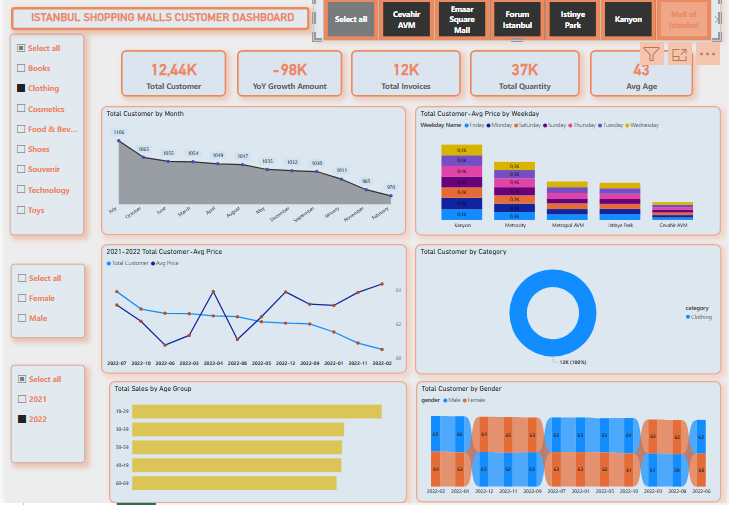

Layout of this report page (visuals, bound fields, positions):
{"tool":"powerbi","page":{"name":"Customer ","canvas":[1750,1230],"ordinal":1},"visuals":[{"type":"textbox","title":"ISTANBUL SHOPPING MALLS CUSTOMER DASHBOARD","box":[14,28.1,722.8,56.1],"z":0},{"type":"card","fields":{"Values":["customer_shopping_data.YoY Growth Amount"]},"box":[560.5,134.2,255.3,113.2],"z":1000},{"type":"card","fields":{"Values":["Count(customer_shopping_data.customer_id)"]},"box":[281.6,134.2,255.3,113.2],"z":2000},{"type":"card","fields":{"Values":["customer_shopping_data.Total Invoices"]},"box":[836.8,134.2,265.8,113.2],"z":3000},{"type":"card","fields":{"Values":["Sum(customer_shopping_data.quantity)"]},"box":[1126.3,134.2,265.8,113.2],"z":4000},{"type":"card","fields":{"Values":["customer_shopping_data.Avg Age"]},"box":[1415.8,134.2,250,113.2],"z":5000},{"type":"slicer","fields":{"Values":["customer_shopping_data.category"]},"box":[13.2,94.7,178.9,486.8],"z":6000},{"type":"slicer","fields":{"Values":["customer_shopping_data.gender"]},"box":[13.5,651.9,178.8,178.8],"z":7000},{"type":"slicer","fields":{"Values":["customer_shopping_data.shopping_mall"]},"box":[746.9,0,987.8,112.2],"z":8000},{"type":"areaChart","title":"Total Customer by Month","fields":{"Category":["Calendar.Month"],"Y":["customer_shopping_data.Total Customer"]},"box":[231.6,268.4,739.5,313.2],"z":9000},{"type":"slicer","fields":{"Values":["Calendar.Year"]},"box":[13.5,896.2,178.8,236.5],"z":10000},{"type":"columnChart","title":"Total Customer-Avg Price  by Weekday","fields":{"Category":["customer_shopping_data.shopping_mall"],"Y":["customer_shopping_data.Total Customer"],"Series":["Calendar.Weekday Name"]},"box":[993.9,269.4,740.8,314.3],"z":11000},{"type":"lineChart","title":"2021-2022 Total Customer-Avg Price","fields":{"Category":["Calendar.Year-Month"],"Y2":["customer_shopping_data.Avg Price"],"Y":["Count(customer_shopping_data.customer_id)"]},"box":[232.7,602,740.8,314.3],"z":12000},{"type":"donutChart","title":"Total Customer by Category","fields":{"Category":["customer_shopping_data.category"],"Y":["customer_shopping_data.Total Customer"]},"box":[993.3,602.2,742.2,315.6],"z":13000},{"type":"clusteredBarChart","title":"Total Sales by Age Group ","fields":{"Category":["customer_shopping_data.Age Group"],"Y":["customer_shopping_data.Total Sales1"]},"box":[251.1,935.6,722.2,295.6],"z":14000},{"type":"ribbonChart","title":"Total Customer by Gender","fields":{"Category":["Calendar.Year-Month"],"Series":["customer_shopping_data.gender"],"Y":["customer_shopping_data.Avg Price"]},"box":[994.1,935.3,739.2,294.1],"z":15000}]}

Visuals, with their boxes in screenshot pixels (x1, y1, x2, y2), scaled from the page's 1750x1230 canvas onto the 729x505 screenshot:
"ISTANBUL SHOPPING MALLS CUSTOMER DASHBOARD" textbox: box=[6, 12, 307, 35]
card - customer_shopping_data.YoY Growth Amount: box=[233, 55, 340, 102]
card - Count(customer_shopping_data.customer_id): box=[117, 55, 224, 102]
card - customer_shopping_data.Total Invoices: box=[349, 55, 459, 102]
card - Sum(customer_shopping_data.quantity): box=[469, 55, 580, 102]
card - customer_shopping_data.Avg Age: box=[590, 55, 694, 102]
slicer - customer_shopping_data.category: box=[5, 39, 80, 239]
slicer - customer_shopping_data.gender: box=[6, 268, 80, 341]
slicer - customer_shopping_data.shopping_mall: box=[311, 0, 723, 46]
"Total Customer by Month" areaChart: box=[96, 110, 405, 239]
slicer - Calendar.Year: box=[6, 368, 80, 465]
"Total Customer-Avg Price  by Weekday" columnChart: box=[414, 111, 723, 240]
"2021-2022 Total Customer-Avg Price" lineChart: box=[97, 247, 406, 376]
"Total Customer by Category" donutChart: box=[414, 247, 723, 377]
"Total Sales by Age Group " clusteredBarChart: box=[105, 384, 405, 504]
"Total Customer by Gender" ribbonChart: box=[414, 384, 722, 504]
